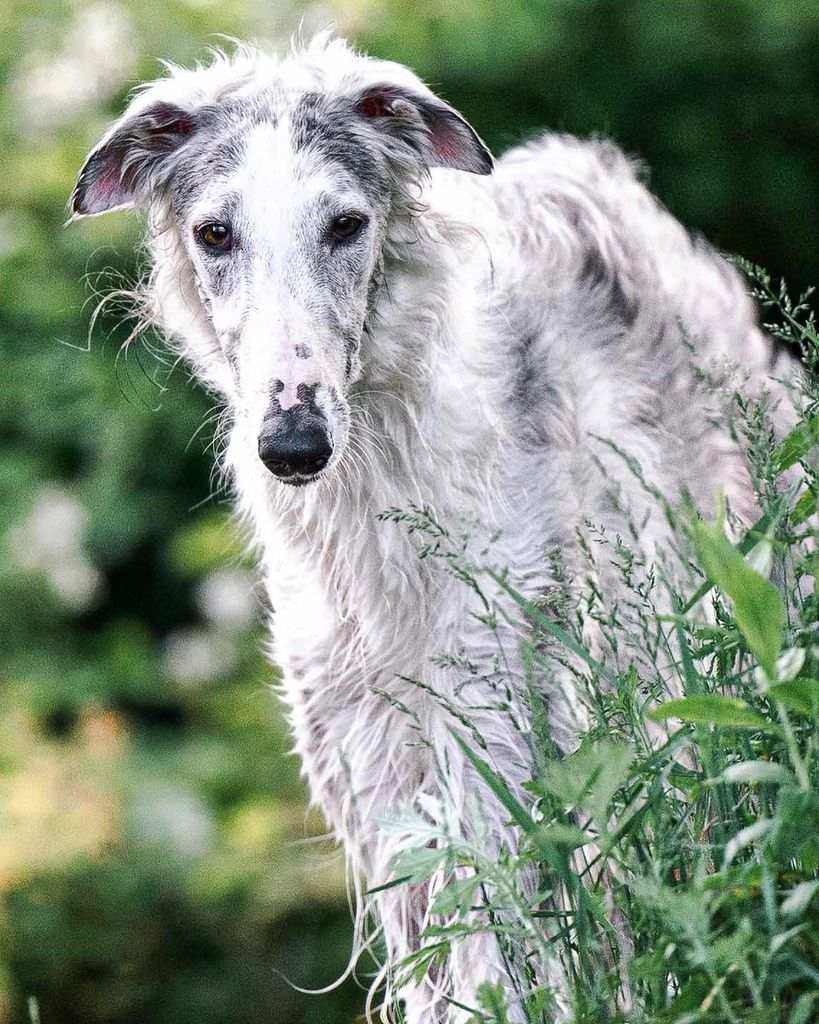borzoi: (61, 25, 811, 1024)
